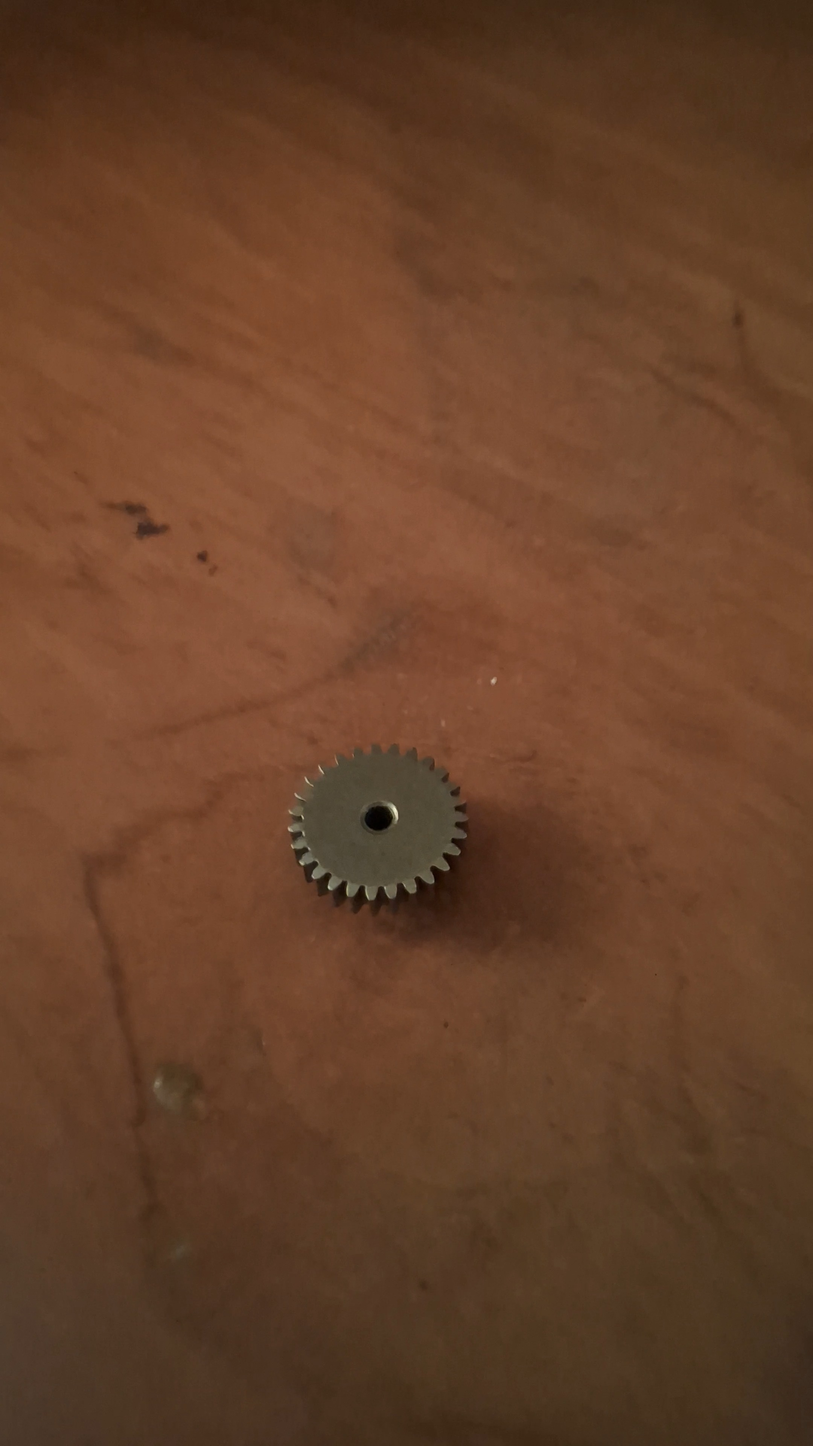spur gear: (289, 745, 466, 903)
